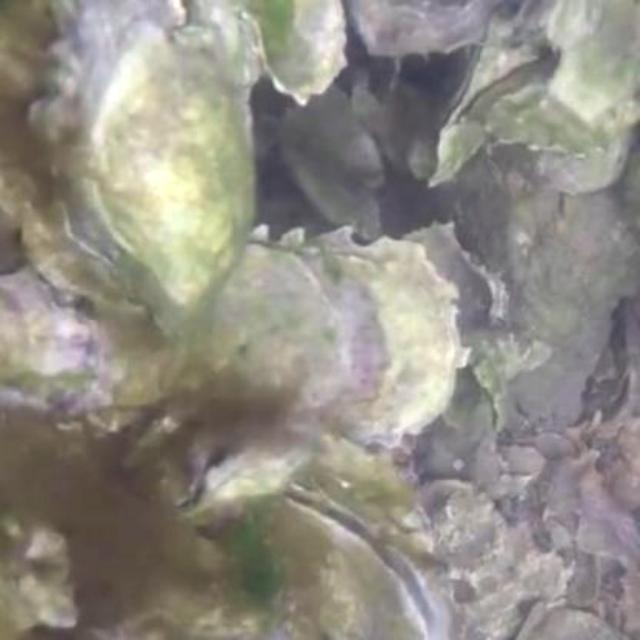Oyster-Closed: (48, 15, 256, 324), (169, 244, 474, 443)
Oyster-Open: (100, 475, 436, 638), (176, 450, 299, 525)
